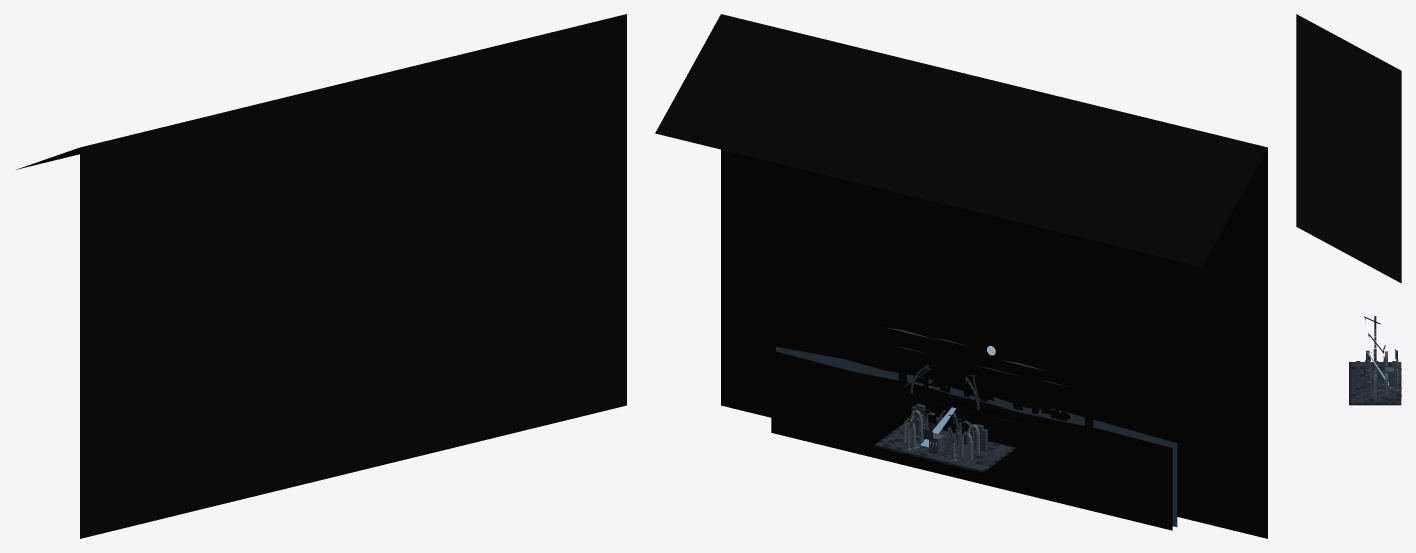
Rendered from VagrantCg_v3.fbx.
3 views of the same model, side by side, from view 1: azimuth 30°, elevation 25°; view 2: azimuth 150°, elevation 25°; view 3: azimuth 270°, elevation 25° (orthographic). The views are drawn at different scales.
Visible parts, largest first — view 1: far_sky; view 2: far_sky, far_sky_overhead, far_ash_rise, far_burned_plain, floor_broken_paving; view 3: far_sky_overhead, floor_broken_paving, floor_substrate.
Boxes of the visible parts, left/top/right/bottom form: far_sky: left=80, top=14, right=626, bottom=538; far_sky: left=721, top=148, right=1267, bottom=538; far_sky_overhead: left=655, top=14, right=1267, bottom=266; far_ash_rise: left=771, top=350, right=1172, bottom=530; far_burned_plain: left=776, top=347, right=1177, bottom=526; floor_broken_paving: left=875, top=421, right=1012, bottom=470; far_sky_overhead: left=1296, top=14, right=1401, bottom=283; floor_broken_paving: left=1351, top=361, right=1401, bottom=403; floor_substrate: left=1349, top=362, right=1401, bottom=405.
Bounding box in the file's own units: 402 × 278 × 84.01.
